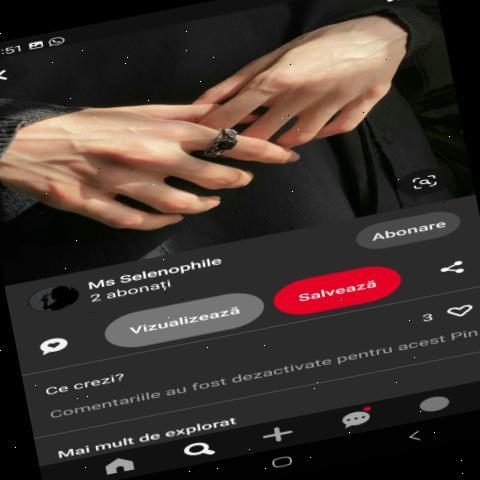Hands: (0, 87, 318, 239), (176, 16, 453, 139)
